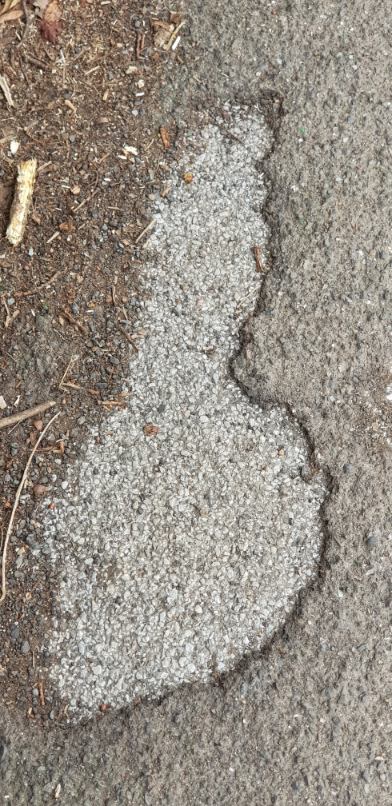pothole: (48, 83, 345, 736)
